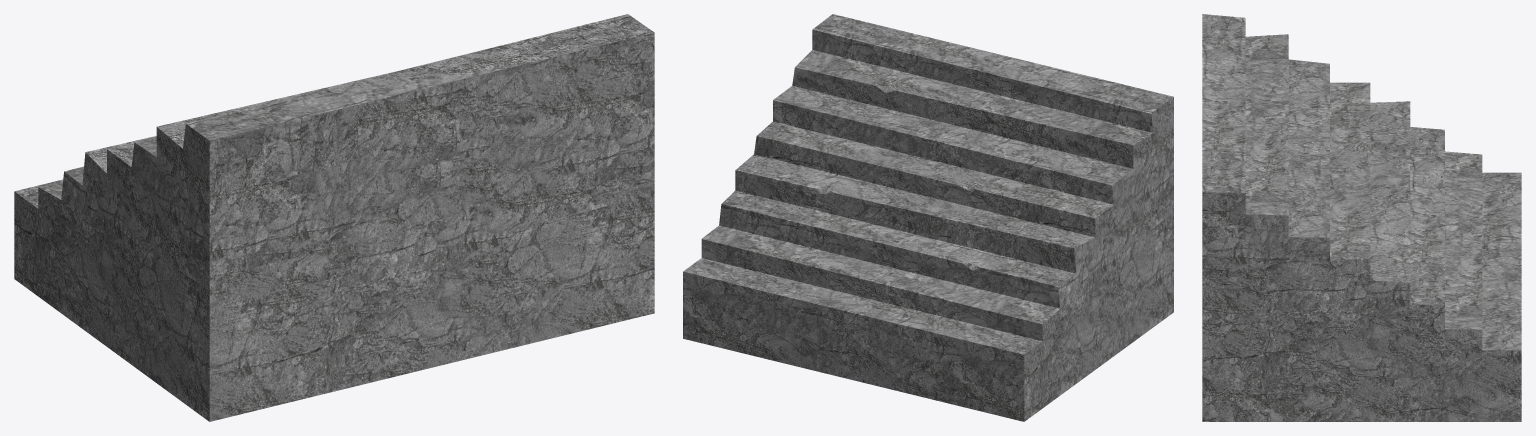
File: materials_3_stairs_0.fbx
3 views of the same model, side by side, from view 1: azimuth 30°, elevation 25°; view 2: azimuth 150°, elevation 25°; view 3: azimuth 270°, elevation 25° (orthographic). The views are drawn at different scales.
Parts seen in each view (by area): view 1: materials_3_stairs_0; view 2: materials_3_stairs_0; view 3: materials_3_stairs_0.
Boxes of the visible parts, x1=… form: materials_3_stairs_0: x1=14, y1=14, x2=654, y2=421; materials_3_stairs_0: x1=683, y1=14, x2=1173, y2=421; materials_3_stairs_0: x1=1202, y1=14, x2=1521, y2=421.
Bounding box in the file's own units: 234 × 141 × 178.
